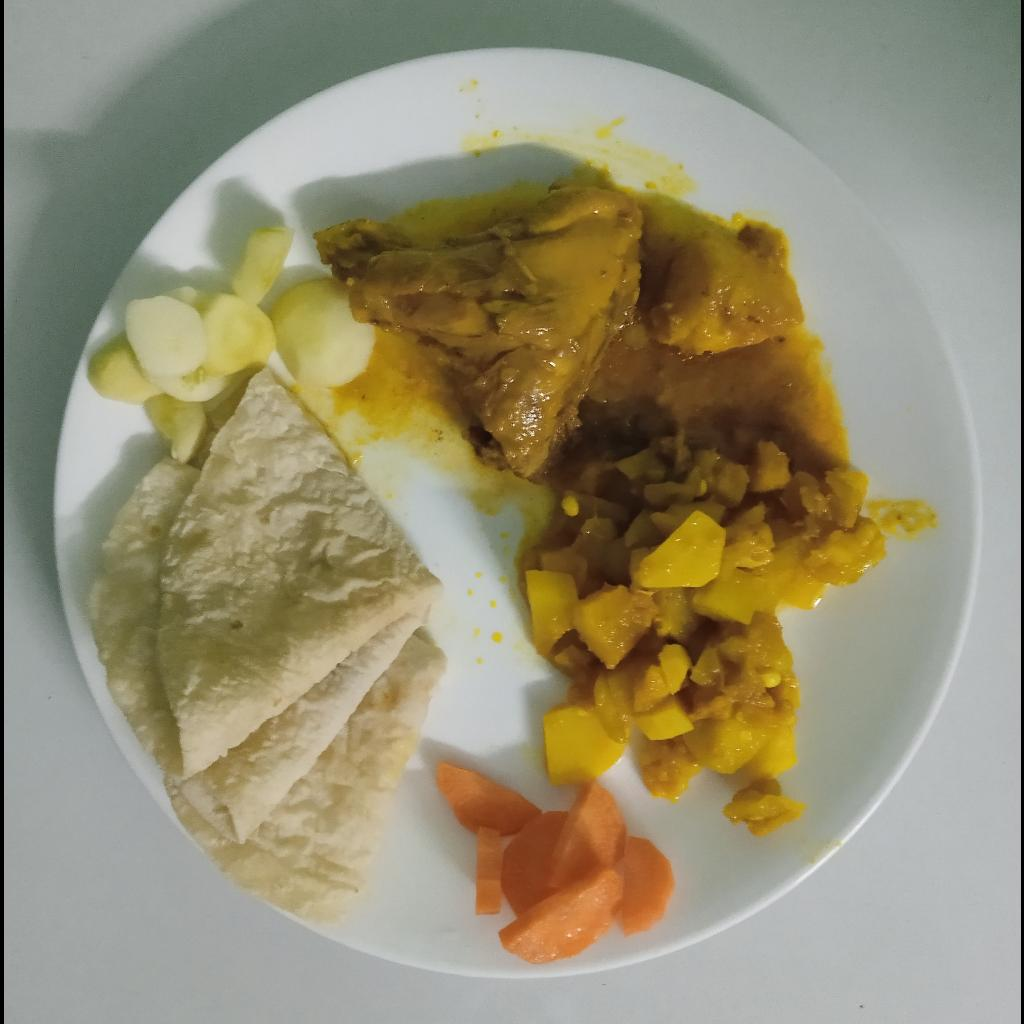carrot: (437, 758, 675, 967)
chicken: (313, 184, 643, 483)
cucumber: (86, 224, 376, 461)
potato: (649, 236, 808, 356)
ruti: (79, 369, 448, 926)
vegetable: (521, 430, 893, 839)
